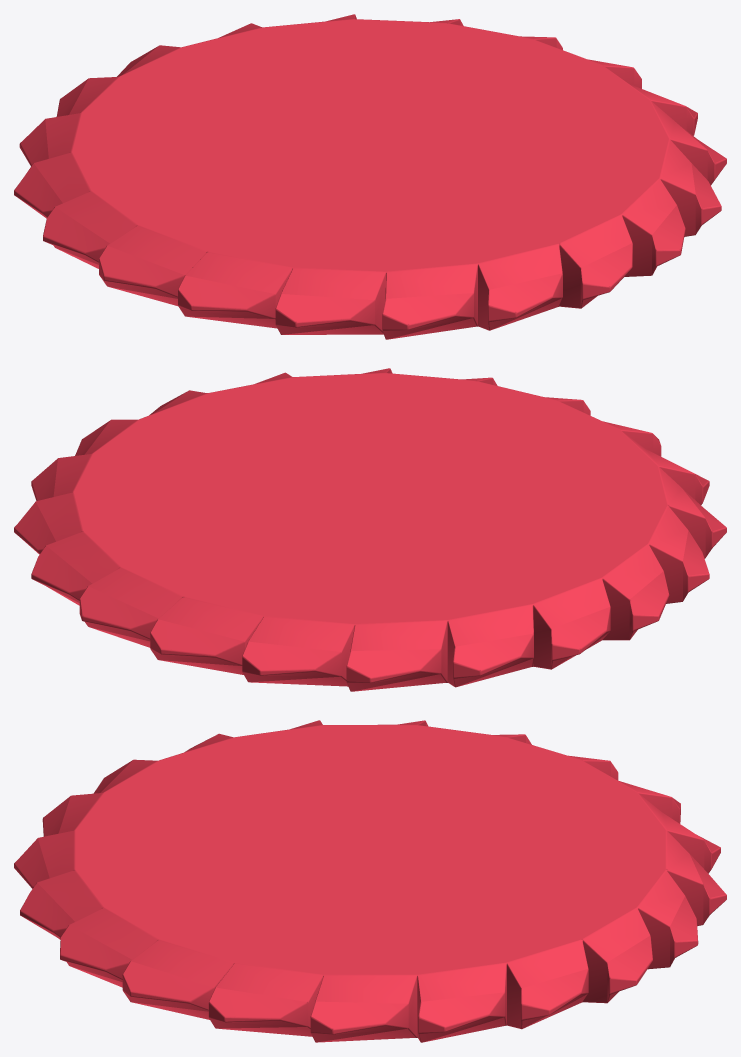
The model's file is SawRenderer.fbx.
3 renders of one model, top to bottom at view 1: azimuth 30°, elevation 25°; view 2: azimuth 150°, elevation 25°; view 3: azimuth 270°, elevation 25°, orthographic.
Visible parts, largest first — view 1: Cylinder; view 2: Cylinder; view 3: Cylinder.
Part boxes in pixels (<box>): Cylinder: <box>14,14,726,339</box>; Cylinder: <box>14,368,726,691</box>; Cylinder: <box>14,720,726,1042</box>.
Size of the model in its own units: 197 by 19.2 by 197.
